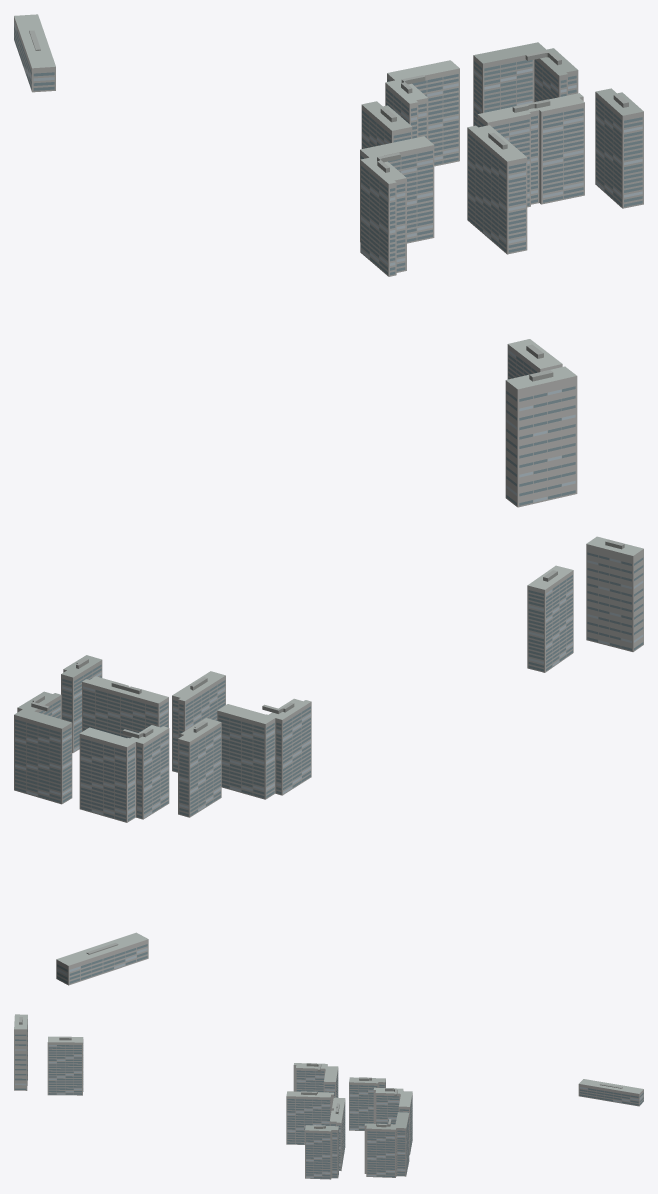
The model's file is apt-a14272304.glb.
The picture shows the model from 3 angles, top to bottom: view 1: azimuth 30°, elevation 25°; view 2: azimuth 150°, elevation 25°; view 3: azimuth 270°, elevation 25°; orthographic projection. The views are drawn at different scales.
Parts seen in each view (by area): view 1: apt-a14272304; view 2: apt-a14272304; view 3: apt-a14272304.
Boxes of the visible parts, x1=… form: apt-a14272304: x1=14, y1=14, x2=643, y2=507; apt-a14272304: x1=14, y1=536, x2=643, y2=985; apt-a14272304: x1=14, y1=1014, x2=643, y2=1179.
Size of the model in its own units: 238 by 68 by 610.
